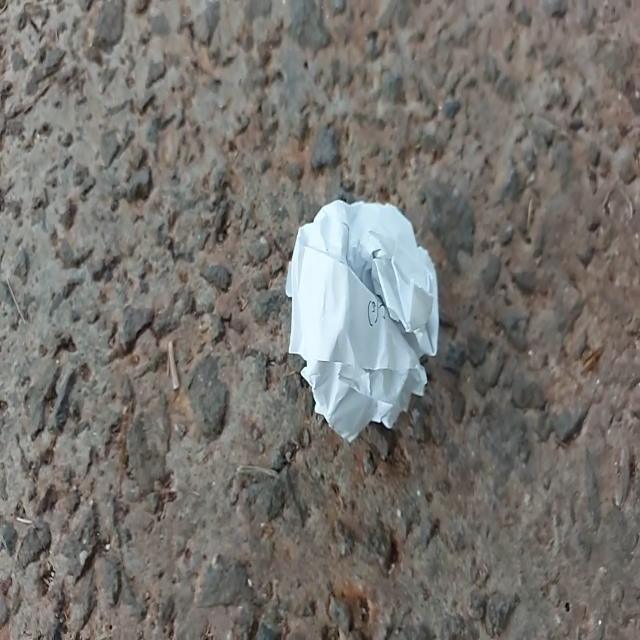Paper: (281, 187, 445, 452)
